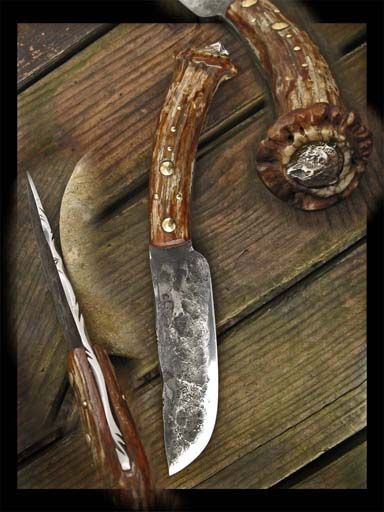knife: (124, 39, 252, 482), (21, 166, 152, 512)
